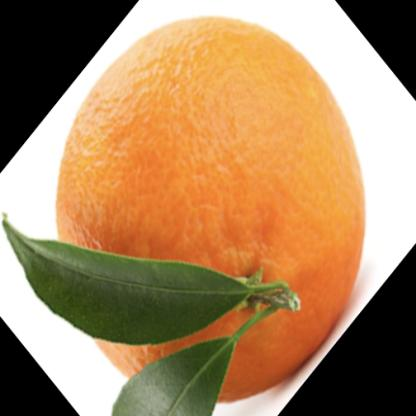fresh: (54, 17, 365, 416)
